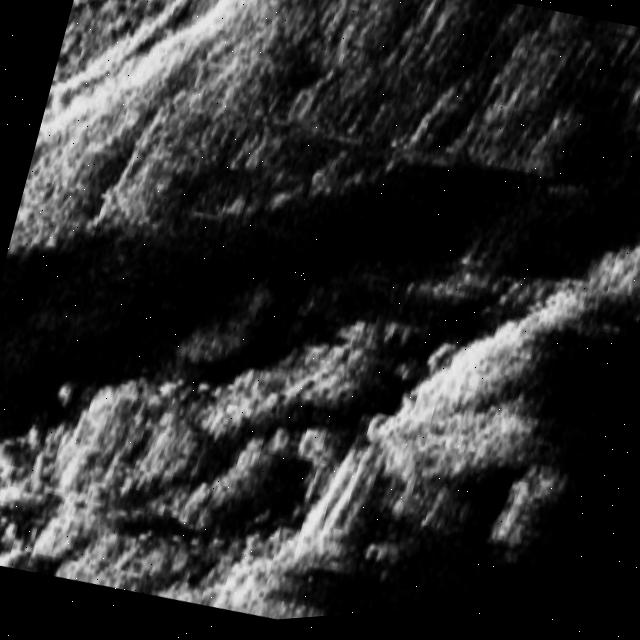bedrock group: (0, 88, 640, 640)
